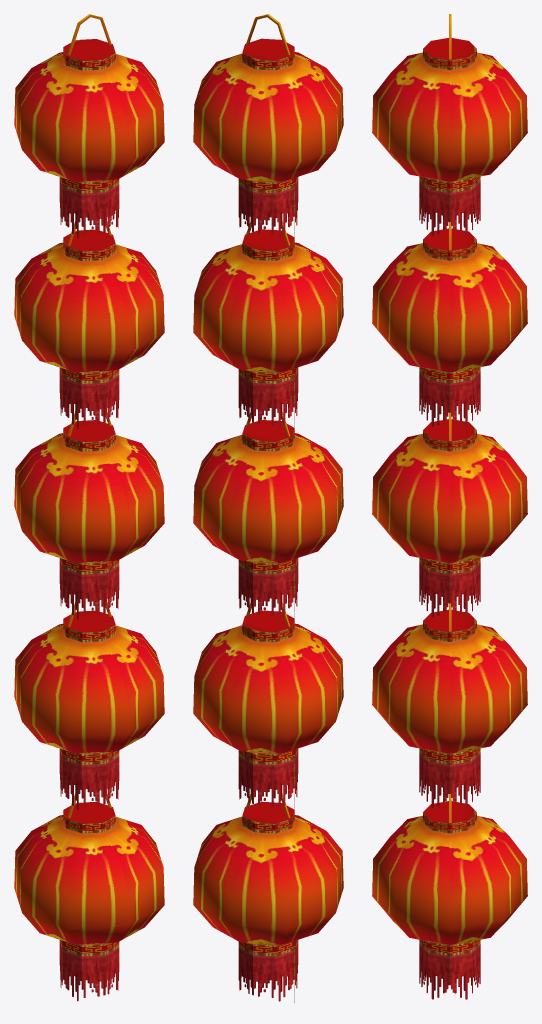
File: furni_0200242.FBX
The picture shows the model from 3 angles, left to right: view 1: azimuth 30°, elevation 25°; view 2: azimuth 150°, elevation 25°; view 3: azimuth 270°, elevation 25°; orthographic projection.
Parts seen in each view (by area): view 1: furni_0200242; view 2: furni_0200242; view 3: furni_0200242.
Boxes of the visible parts, x1,y1,x2,y2 form: furni_0200242: (14, 14, 164, 1001); furni_0200242: (193, 14, 343, 1002); furni_0200242: (372, 14, 527, 999).
Size of the model in its own units: 33.43 by 233 by 33.43.
Materials: 1 (1 with a texture image).
